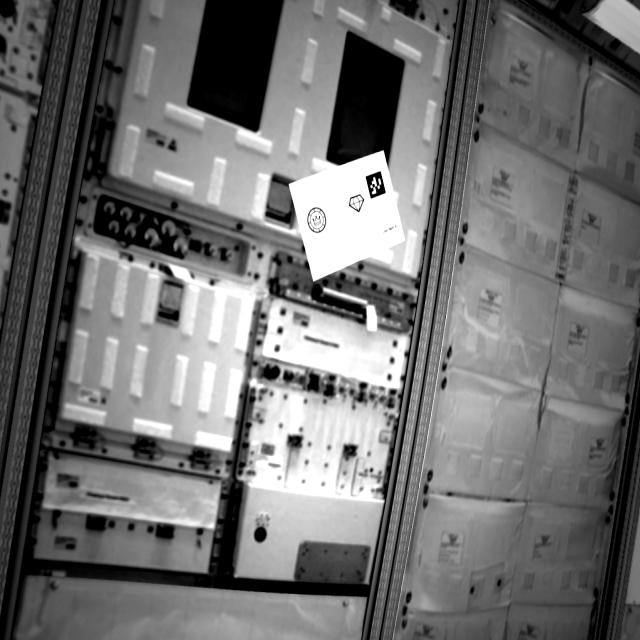coin: (306, 206, 330, 236)
diamond: (349, 194, 368, 214)
